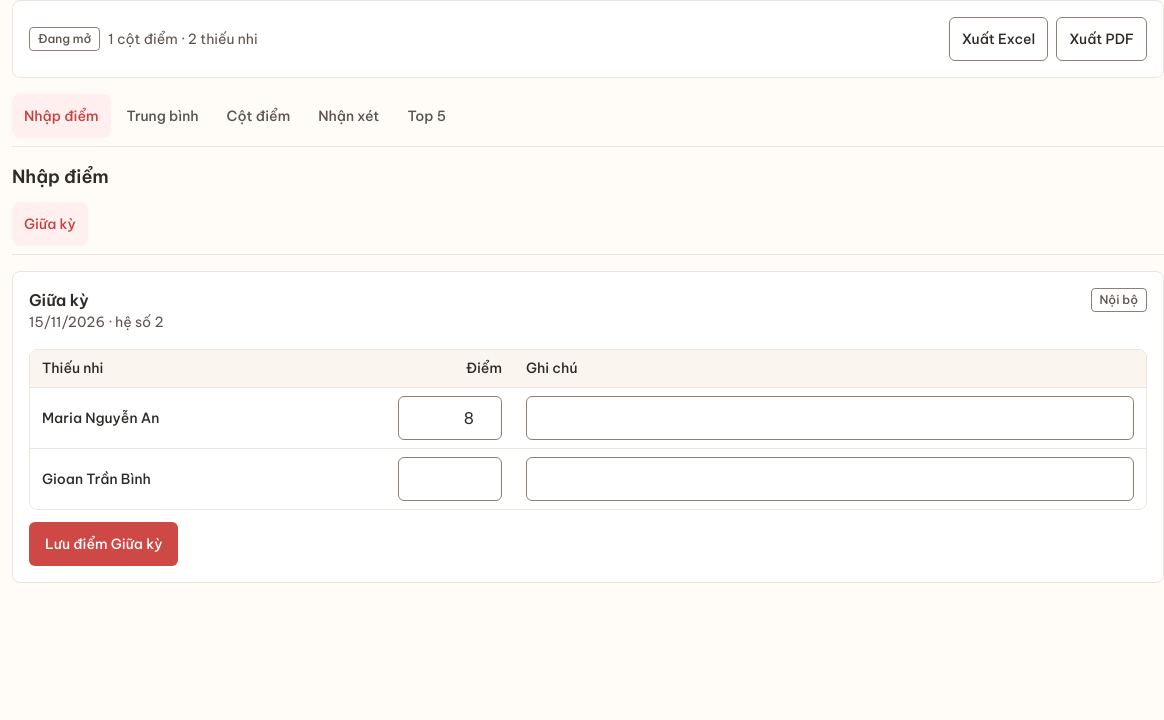
Test: gradebook editor › thông điệp đếm theo ĐƠN VỊ Ô, không còn nói 'dòng điểm' cho cả roster
Type "7" into the number field named "Điểm Gioan Trần Bình" at [450, 479], box [398,457,502,501]
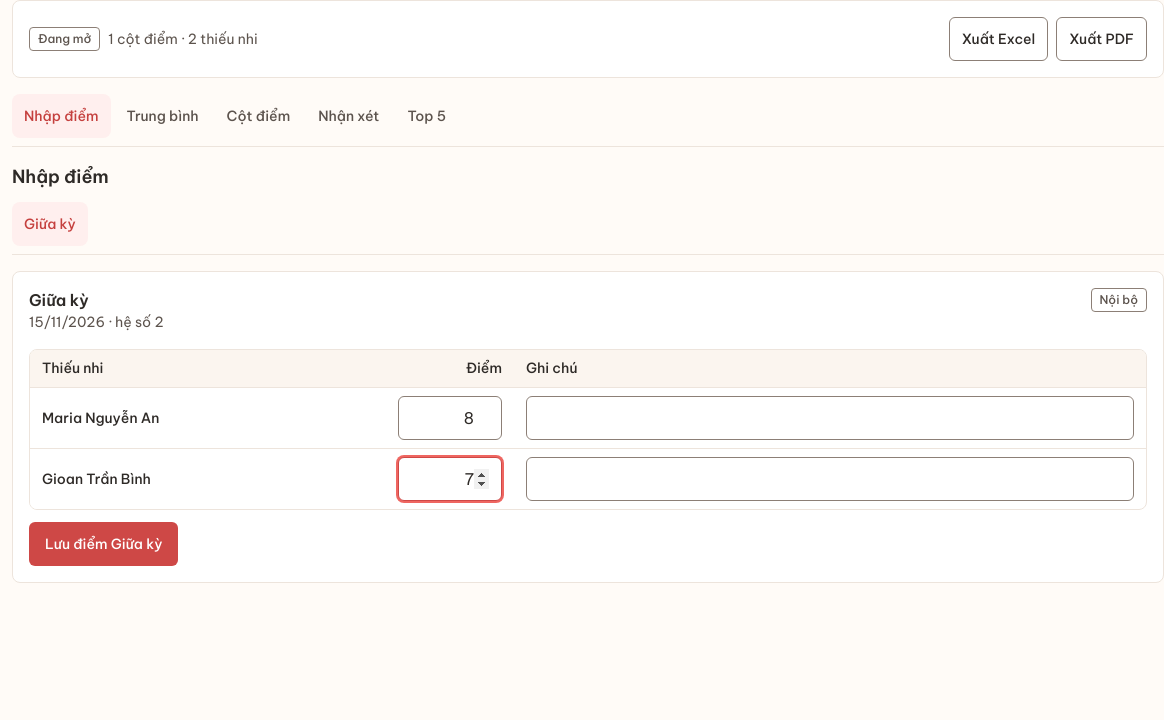
Click the button "Lưu điểm Giữa kỳ" at [104, 544], box [29,522,178,566]
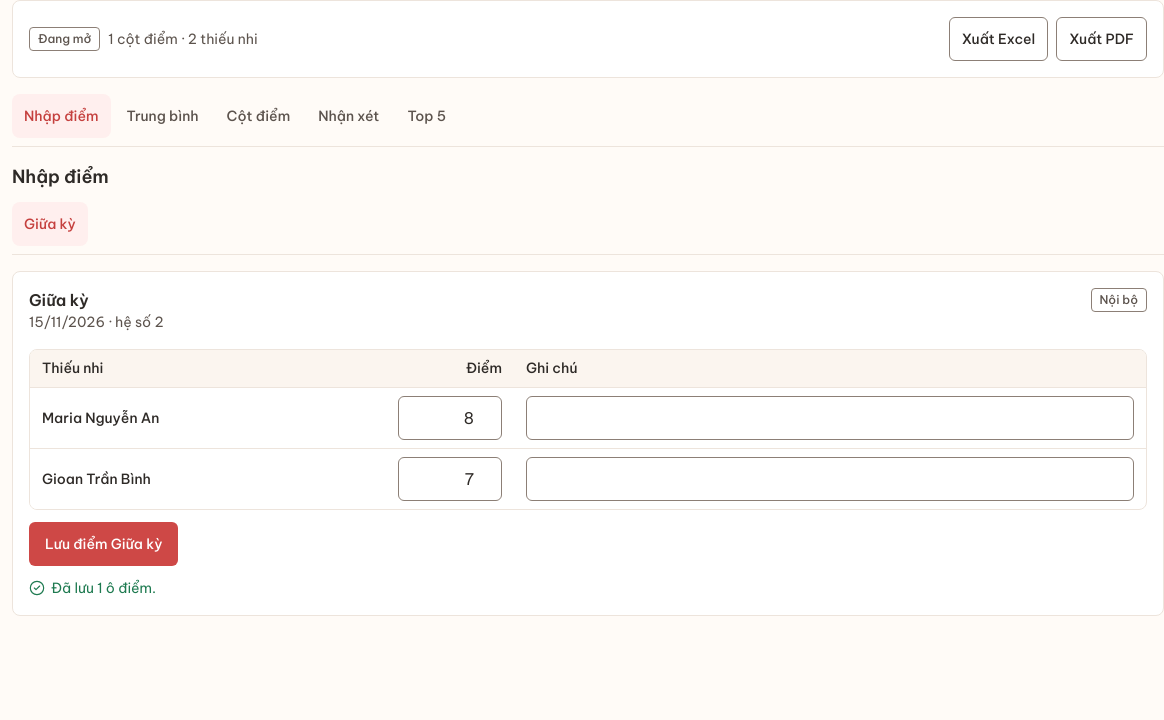
Check: the text "Đã lưu 1 ô điểm." is shown, box [51,578,156,599]
